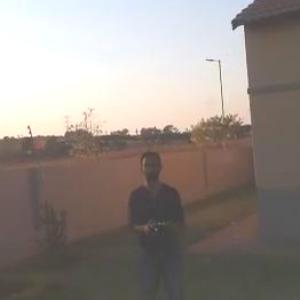follow: (120, 145, 190, 299)
